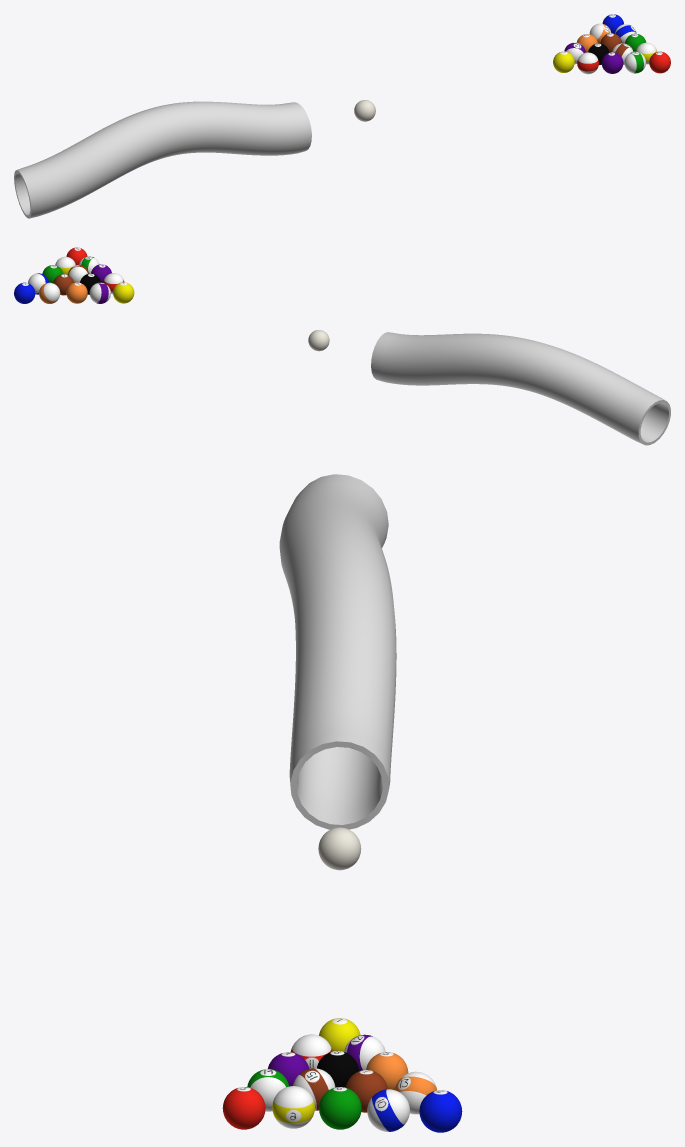
The model's file is PoolBalls32.glb.
3 renders of one model, top to bottom at view 1: azimuth 30°, elevation 25°; view 2: azimuth 150°, elevation 25°; view 3: azimuth 270°, elevation 25°, orthographic. The views are drawn at different scales.
Visible parts, largest first — view 1: NURBS-Pfad, Ball.004, Ball.003, Ball.011, Ball.019, Ball.cue, Ball.001; view 2: NURBS-Pfad, Ball.005, Ball.012, Ball.001, Ball.002, Ball.018, Ball.cue; view 3: NURBS-Pfad, Ball.cue, Ball.008, Ball.002, Ball.009, Ball.017, Ball.003, Ball.018, Ball.007, Ball.005, Ball.019, Ball.006.
Part boxes in pixels (<box>): NURBS-Pfad: <box>14,101,311,218</box>; Ball.004: <box>601,52,623,73</box>; Ball.003: <box>649,51,670,73</box>; Ball.011: <box>577,52,598,74</box>; Ball.019: <box>624,51,645,73</box>; Ball.cue: <box>354,100,375,121</box>; Ball.001: <box>553,51,574,72</box>; NURBS-Pfad: <box>371,332,670,445</box>; Ball.005: <box>66,282,87,303</box>; Ball.012: <box>89,282,110,303</box>; Ball.001: <box>113,282,134,303</box>; Ball.002: <box>14,282,35,303</box>; Ball.018: <box>39,282,60,303</box>; Ball.cue: <box>308,330,329,351</box>; NURBS-Pfad: <box>279,474,396,829</box>; Ball.cue: <box>318,827,361,870</box>; Ball.008: <box>272,1086,314,1128</box>; Ball.002: <box>419,1090,462,1132</box>; Ball.009: <box>367,1089,409,1131</box>; Ball.017: <box>319,1087,361,1129</box>; Ball.003: <box>222,1087,265,1129</box>; Ball.018: <box>395,1071,436,1114</box>; Ball.007: <box>317,1051,358,1087</box>; Ball.005: <box>366,1052,408,1090</box>; Ball.019: <box>247,1069,289,1111</box>; Ball.006: <box>345,1070,387,1112</box>.
Size of the model in its own units: 1.91 by 0.2135 by 0.3198.
Materials: 17 (15 with a texture image).
